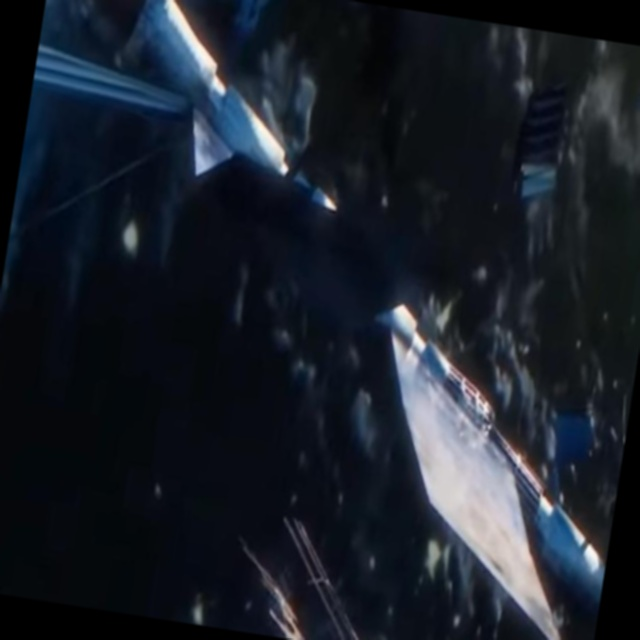large_debris: (329, 285, 640, 640), (18, 0, 378, 230)
